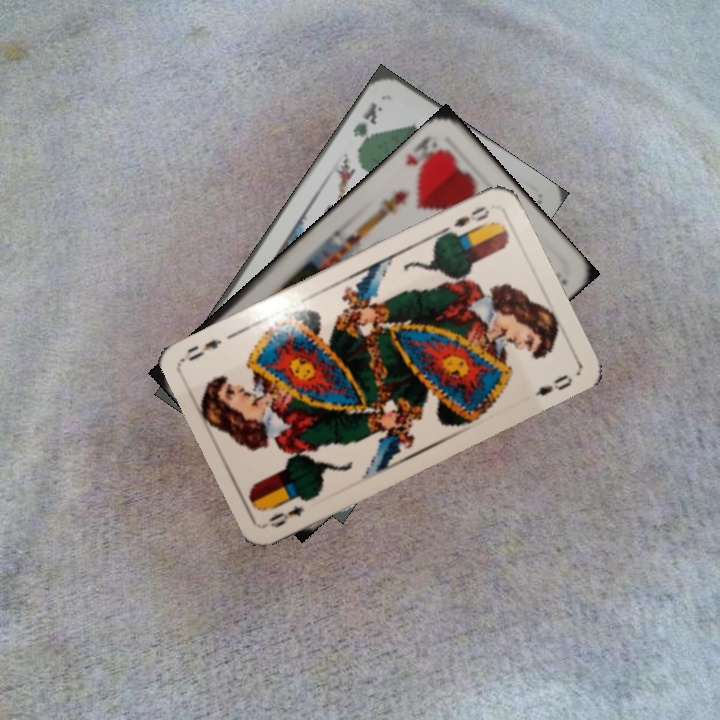EO: (441, 202, 492, 239), (264, 501, 307, 530)
GK: (348, 97, 385, 151)
HK: (401, 131, 445, 174)
